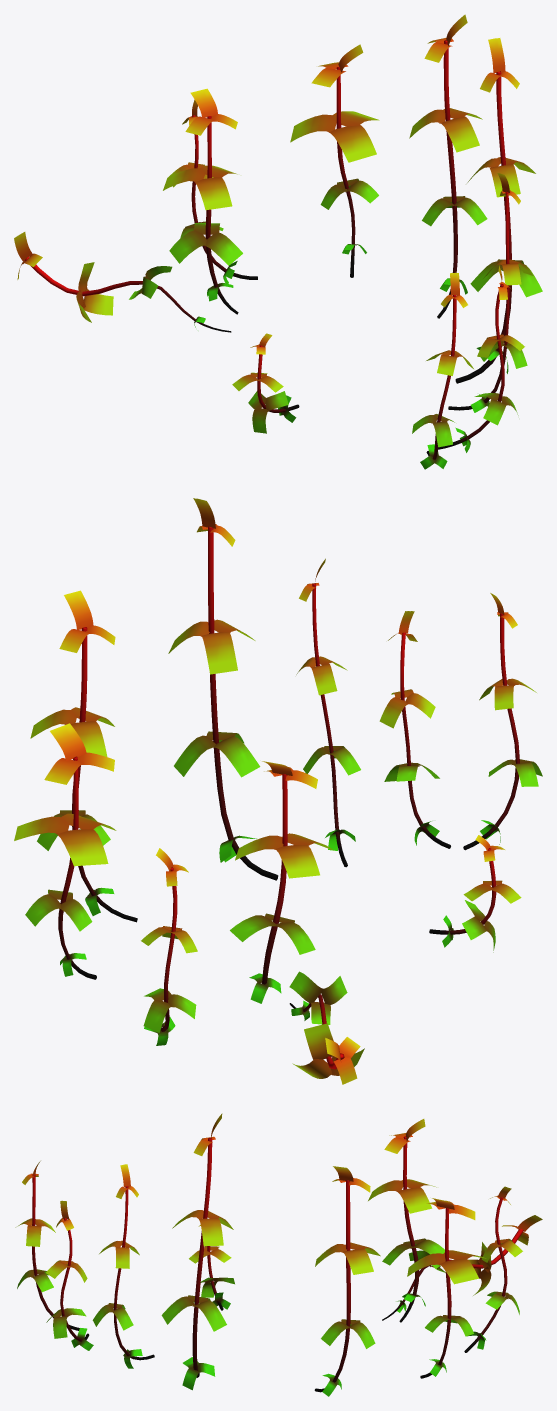
The model's file is Bed_grass.fbx.
The picture shows the model from 3 angles, top to bottom: view 1: azimuth 30°, elevation 25°; view 2: azimuth 150°, elevation 25°; view 3: azimuth 270°, elevation 25°; orthographic projection. The views are drawn at different scales.
Parts seen in each view (by area): view 1: polySurface52, polySurface26, polySurface23, polySurface64, polySurface59, polySurface72, polySurface5, polySurface32, polySurface76, polySurface68, polySurface80, polySurface13 (+14 smaller); view 2: polySurface52, polySurface72, polySurface26, polySurface80, polySurface76, polySurface49, polySurface64, polySurface11, polySurface62, polySurface5, polySurface23, polySurface54 (+13 smaller); view 3: polySurface52, polySurface72, polySurface26, polySurface80, polySurface64, polySurface59, polySurface76, polySurface68, polySurface29, polySurface46, polySurface23, polySurface85 (+17 smaller).
Part boxes in pixels (x1,y1,x2,y2): polySurface52: (290,111,379,162); polySurface26: (163,165,237,210); polySurface23: (169,223,242,265); polySurface64: (409,108,482,152); polySurface59: (437,40,457,318); polySurface72: (455,71,511,383); polySurface5: (76,262,113,322); polySurface32: (185,88,237,135); polySurface76: (467,157,535,197); polySurface68: (422,196,487,226); polySurface80: (470,259,542,297); polySurface13: (25,257,231,332); polySurface52: (14,813,116,866); polySurface72: (208,526,278,880); polySurface26: (235,833,333,878); polySurface80: (174,731,260,777); polySurface76: (168,619,255,674); polySurface49: (44,723,114,784); polySurface64: (30,707,114,756); polySurface11: (289,971,347,1024); polySurface62: (59,590,115,652); polySurface5: (292,1023,364,1078); polySurface23: (230,913,315,954); polySurface54: (25,889,92,931); polySurface52: (407,1250,486,1284); polySurface72: (192,1138,212,1377); polySurface26: (368,1179,436,1213); polySurface80: (161,1295,226,1331); polySurface64: (315,1242,380,1274); polySurface59: (314,1180,350,1392); polySurface76: (172,1210,233,1246); polySurface68: (321,1319,375,1348); polySurface29: (399,1136,419,1322); polySurface46: (420,1207,451,1378); polySurface23: (382,1238,444,1265); polySurface85: (113,1186,154,1360).
Bounding box in the file's own units: 467 × 398 × 669.
